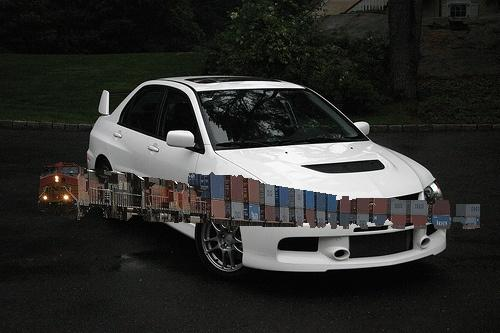tampered: (39, 163, 480, 229)
